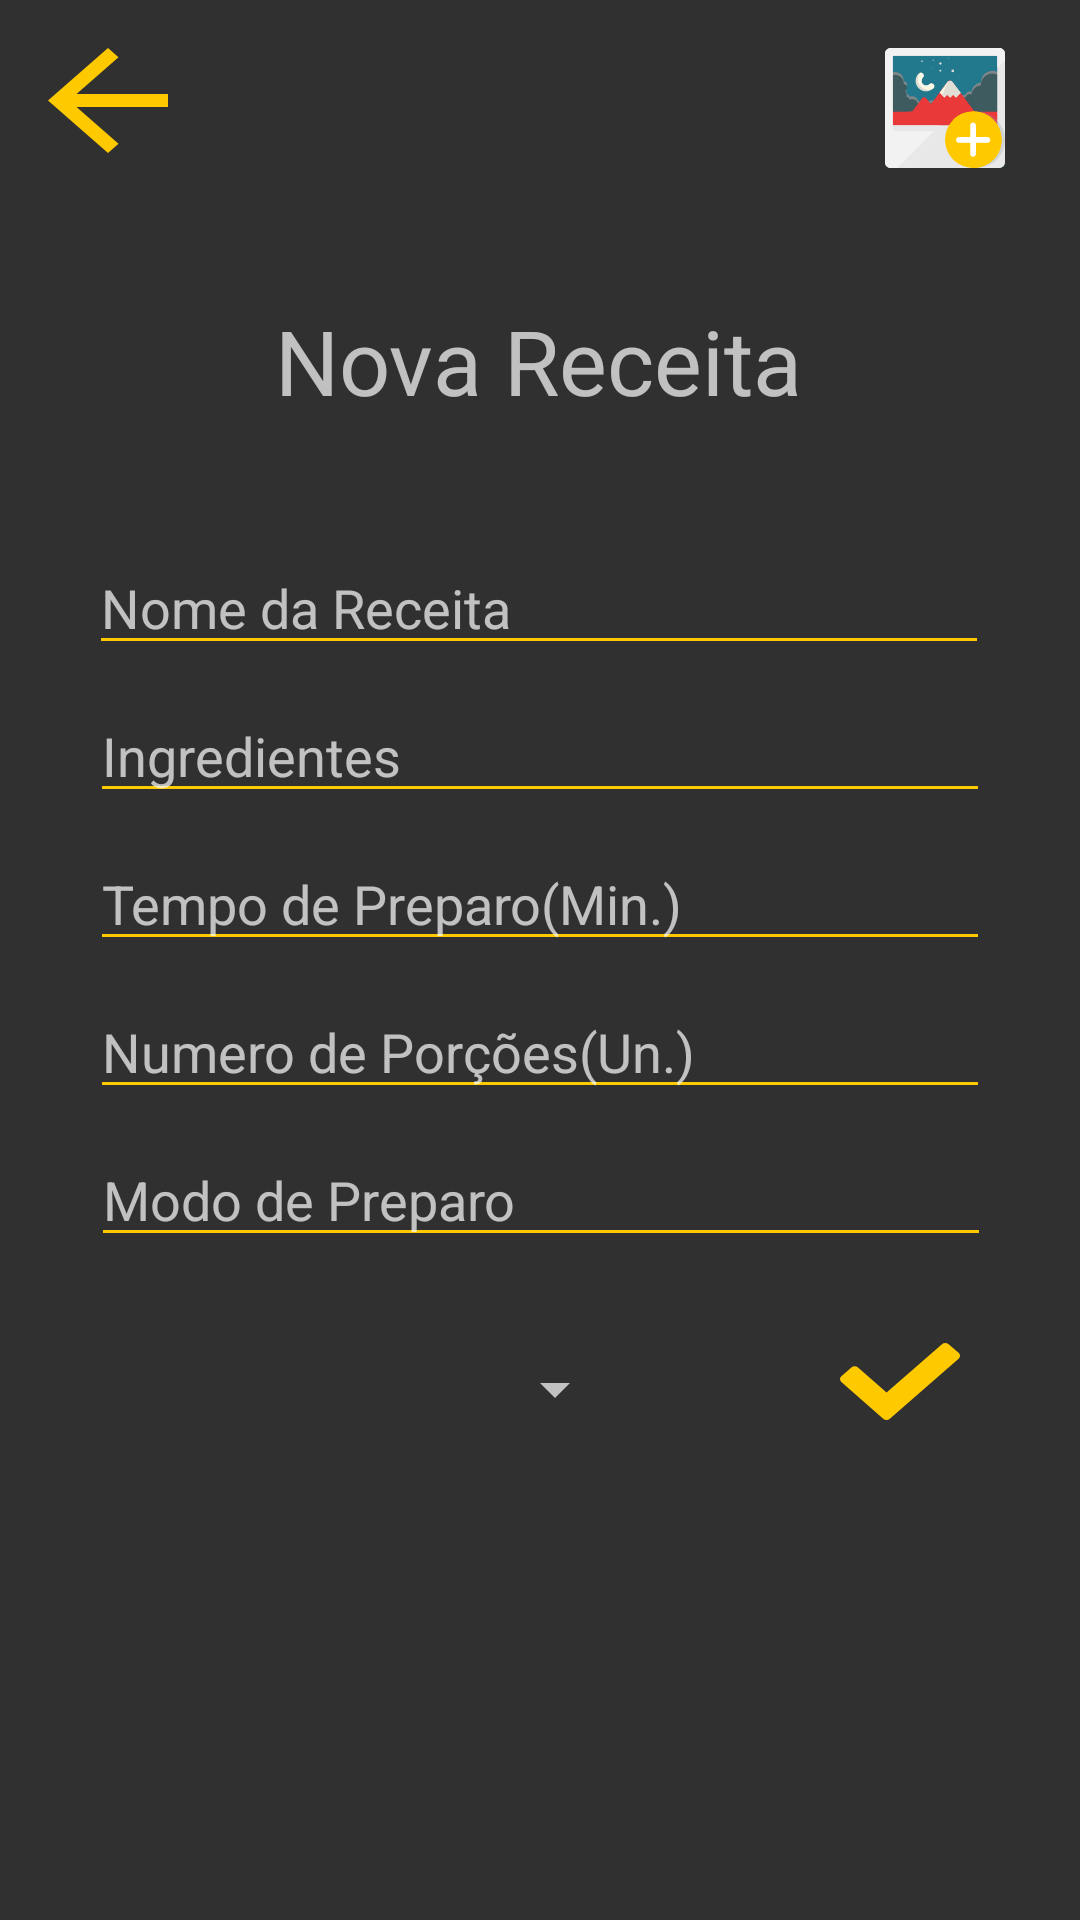

Where to tap for icons on this 1080 × 1920 app screen, as point (x, y):
add: point (945, 108)
confirm: point (900, 1381)
go back left arrow: point (108, 100)
